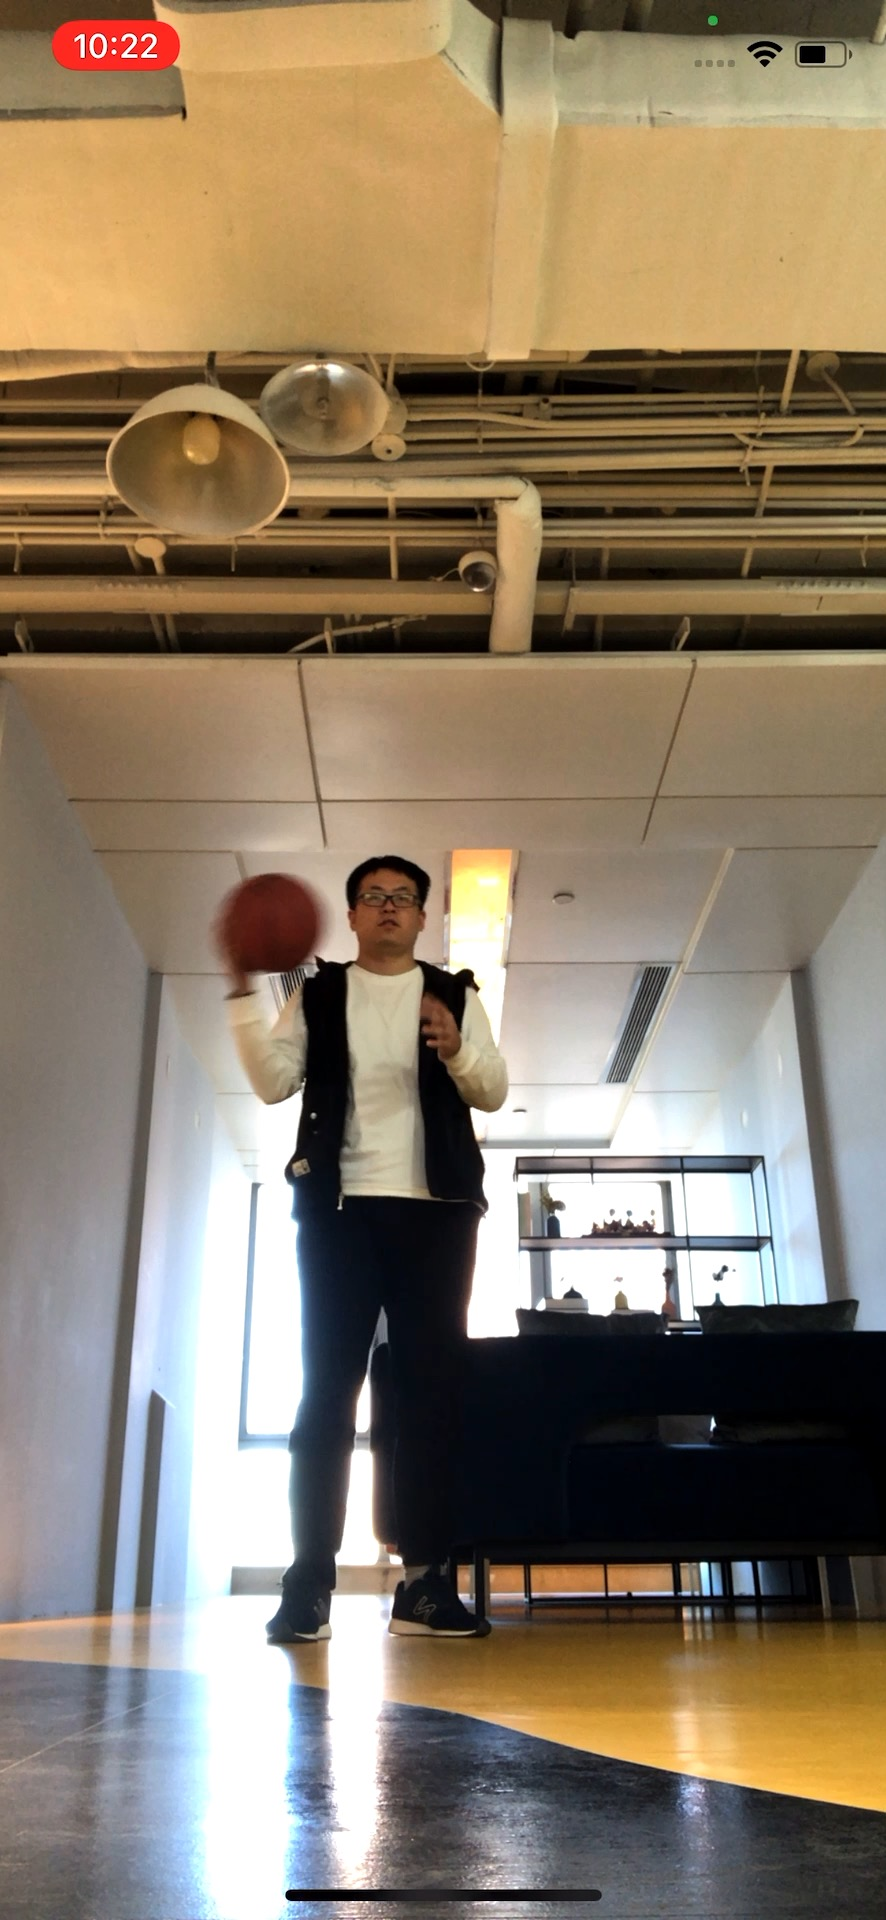ball: (218, 874, 327, 976)
